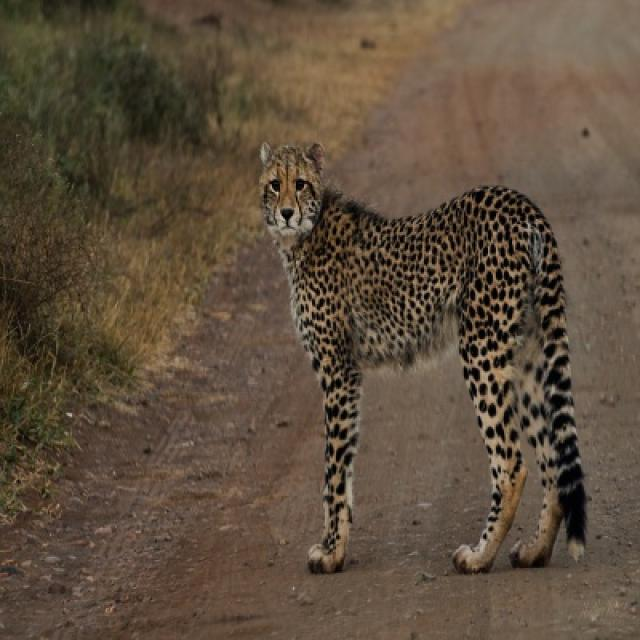Cheetah: (259, 144, 589, 576)
